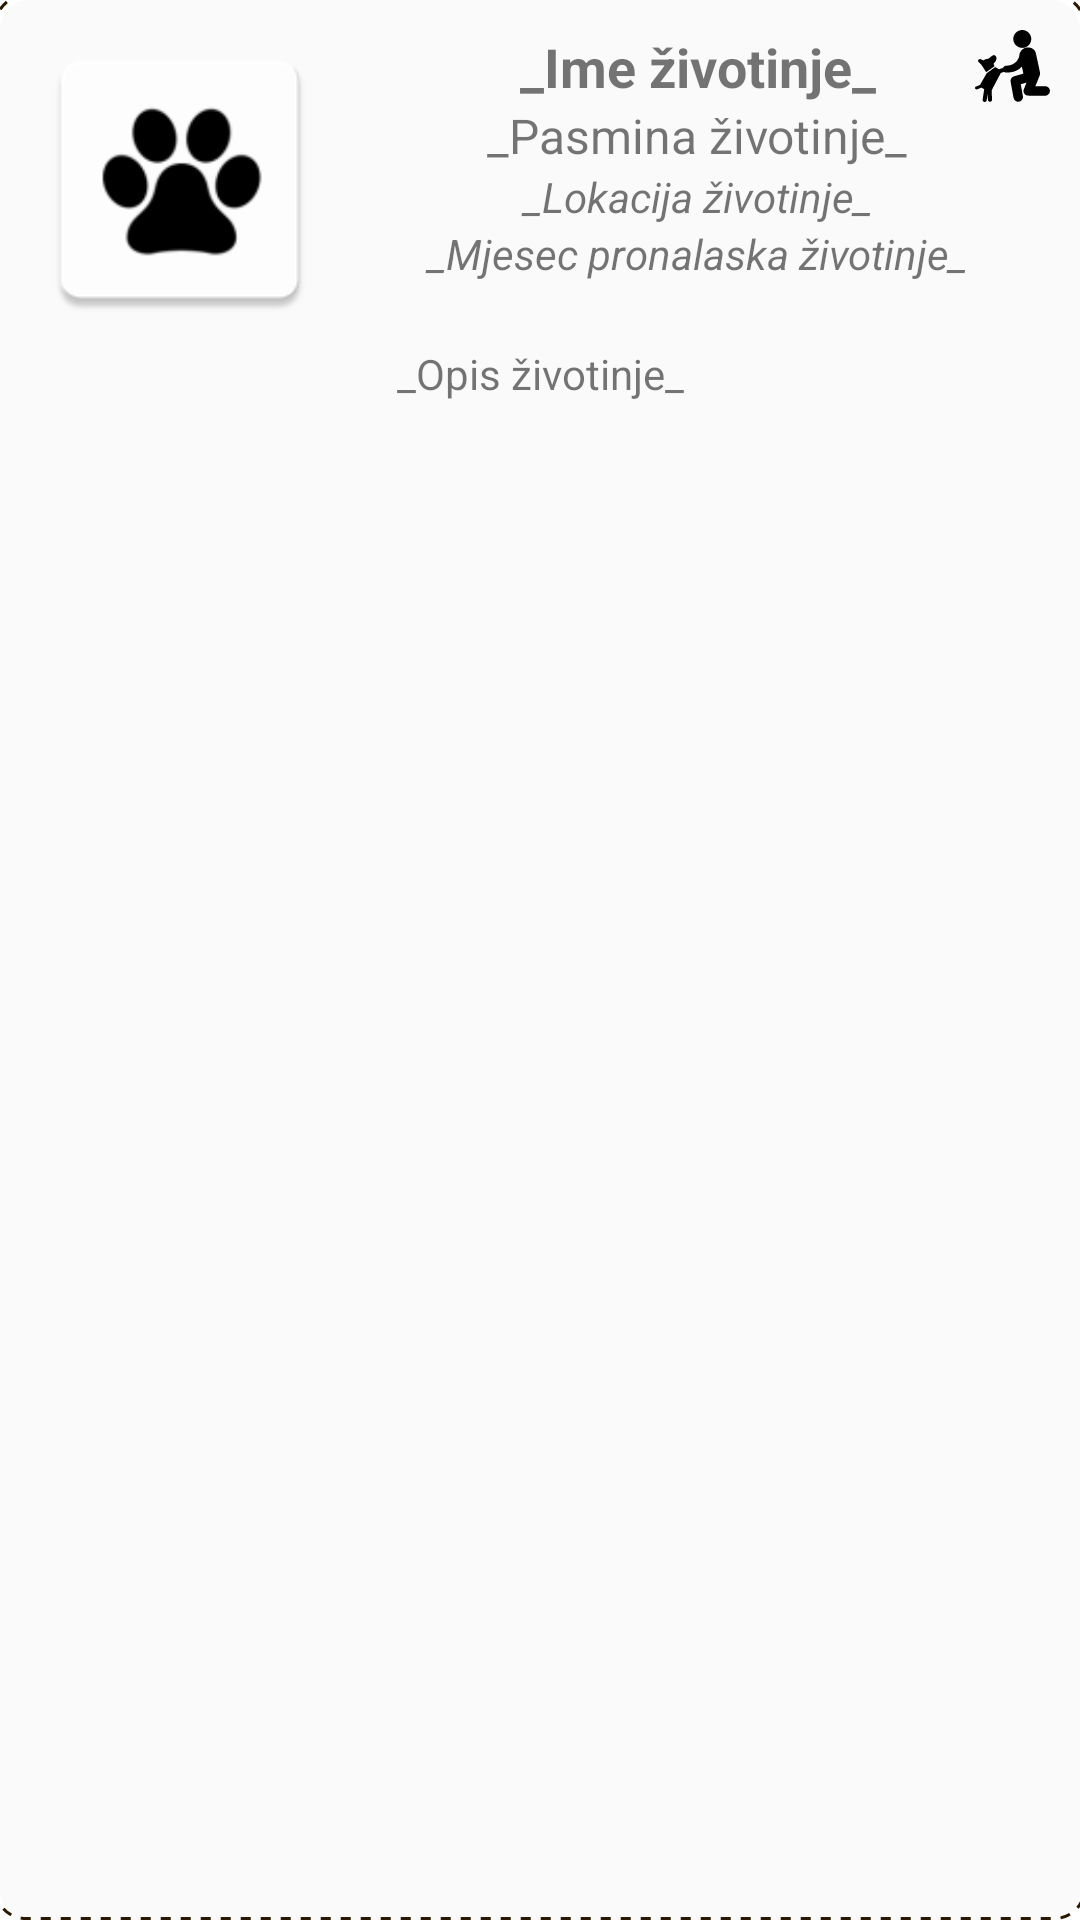

Point at icon controls on the screen. Image size 1080×1920, points as (x,y).
adopt: (1012,66)
paw: (180,190)
